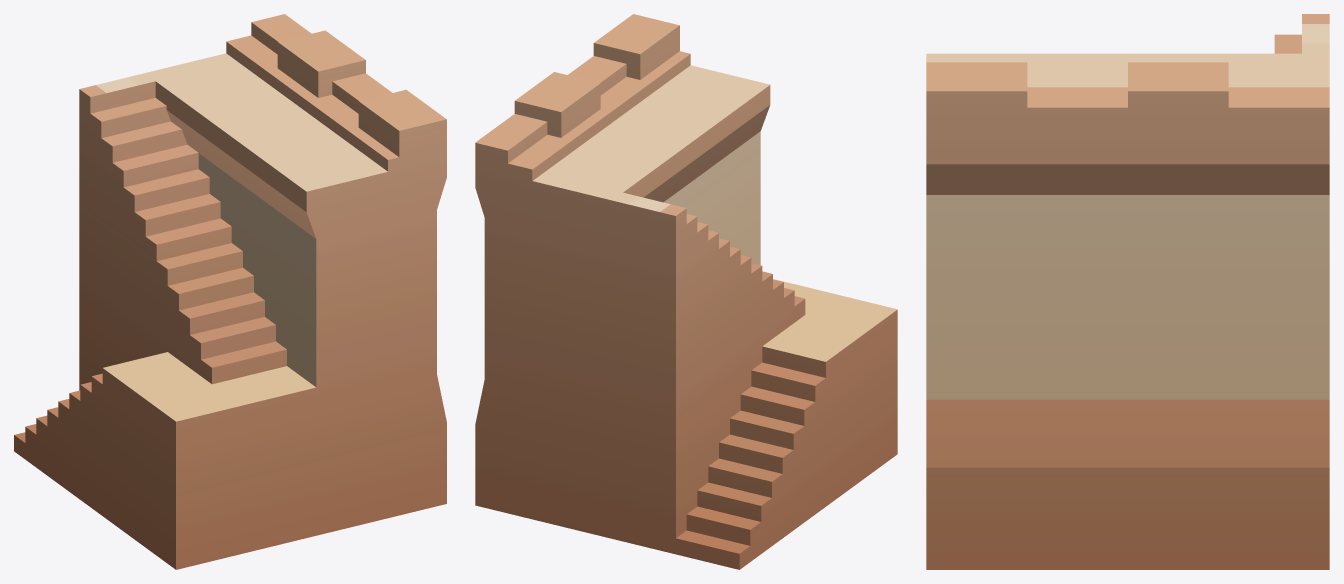
Rendered from kenney-castle-wall-narrow-stairs.glb.
3 views of the same model, side by side, from view 1: azimuth 30°, elevation 25°; view 2: azimuth 150°, elevation 25°; view 3: azimuth 270°, elevation 25° (orthographic). The views are drawn at different scales.
Visible parts, largest first — view 1: wall-narrow-stairs; view 2: wall-narrow-stairs; view 3: wall-narrow-stairs.
Part boxes in pixels (left/top/right/bottom): wall-narrow-stairs: left=14, top=14, right=446, bottom=569; wall-narrow-stairs: left=475, top=14, right=897, bottom=569; wall-narrow-stairs: left=926, top=14, right=1329, bottom=569.
Size of the model in its own units: 0.965 by 1.31 by 1.
1 material, 1 textured.
